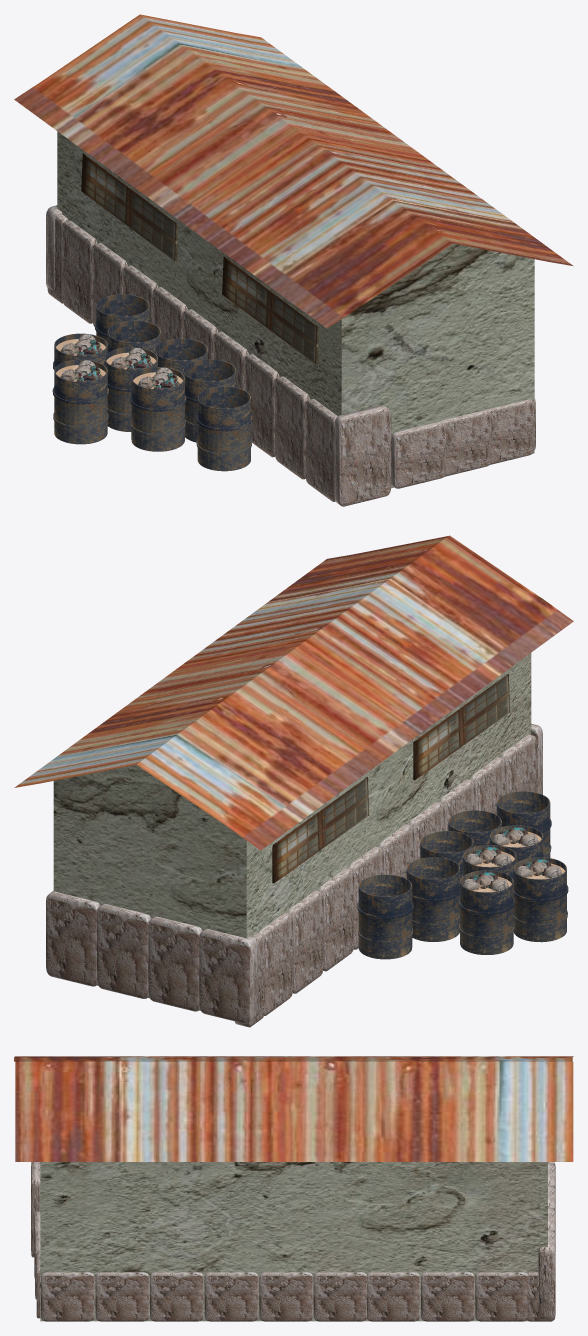
File: CASA 3.glb
The picture shows the model from 3 angles, top to bottom: view 1: azimuth 30°, elevation 25°; view 2: azimuth 150°, elevation 25°; view 3: azimuth 270°, elevation 25°; orthographic projection. The views are drawn at different scales.
Visible parts, largest first — view 1: Cube.022, Cube.021, Cube.023, Cube.024, Cube.029, Cylinder.002, Cylinder.031, Empty.009, Empty.008, Cylinder.043, Cylinder.028, Cube.027; view 2: Cube.022, Cube.021, Cube.023, Cube.024, Cube.027, Cylinder.002, Cylinder.031, Cylinder.043, Cube.028, Cylinder.028, Empty.008, Empty.009; view 3: Cube.021, Cube.023, Cube.029, Cube.022, Cube.028, Cube.027.
Boxes of the visible parts, x1,y1,x2,y2 form: Cube.022: (14, 14, 452, 328); Cube.021: (57, 131, 534, 488); Cube.023: (140, 14, 573, 266); Cube.024: (47, 214, 337, 501); Cube.029: (334, 398, 535, 506); Cylinder.002: (52, 333, 186, 451); Cylinder.031: (154, 338, 252, 471); Empty.009: (222, 256, 318, 364); Empty.008: (81, 153, 177, 261); Cylinder.043: (94, 294, 149, 342); Cylinder.028: (107, 320, 160, 352); Cube.027: (46, 205, 62, 291); Cube.022: (136, 535, 573, 850); Cube.021: (53, 653, 531, 1010); Cube.023: (14, 536, 448, 787); Cube.024: (235, 734, 536, 1027); Cube.027: (97, 904, 258, 1023); Cylinder.002: (458, 825, 568, 954); Cylinder.031: (420, 791, 551, 879); Cylinder.043: (357, 874, 413, 959); Cube.028: (46, 891, 99, 986); Cylinder.028: (406, 857, 460, 941); Empty.008: (272, 777, 369, 883); Empty.009: (413, 674, 509, 780); Cube.021: (40, 1162, 547, 1321); Cube.023: (15, 1061, 573, 1161); Cube.029: (31, 1162, 553, 1321); Cube.022: (14, 1056, 573, 1061); Cube.028: (538, 1228, 555, 1320); Cube.027: (548, 1162, 555, 1232).
Bounding box in the file's own units: 120 × 74.66 × 172.
Materials: 8 (8 with a texture image).
